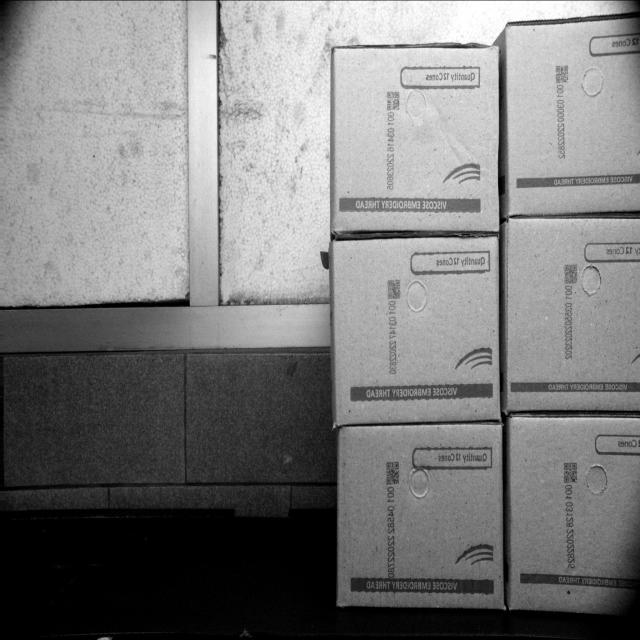cardboxes: (330, 43, 499, 231), (335, 238, 499, 423), (339, 422, 499, 604), (506, 413, 640, 622), (506, 218, 640, 417), (507, 22, 639, 214)
